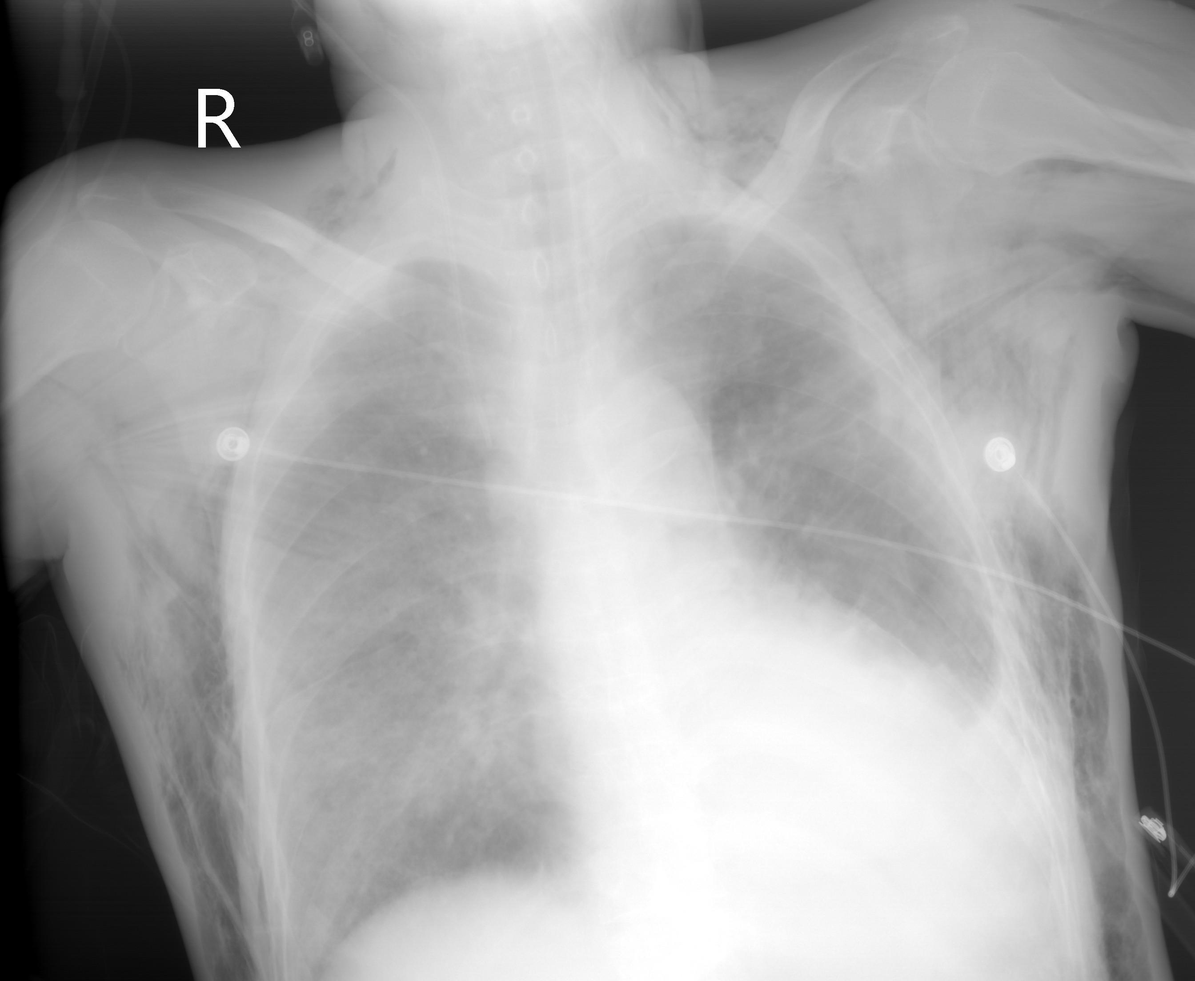Aortic enlargement: (565, 365, 739, 515)
Cardiomegaly: (531, 645, 983, 899)
Pleural thickening: (940, 625, 1055, 785)
